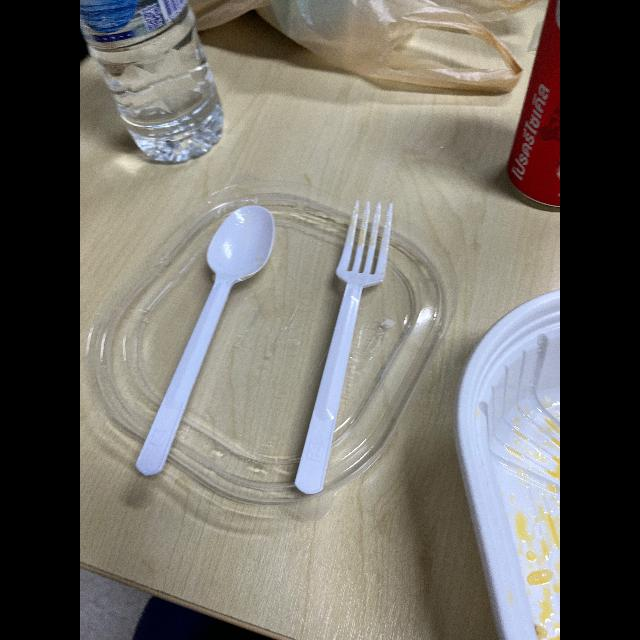plastic_cultery: (272, 180, 410, 518), (124, 198, 280, 484)
